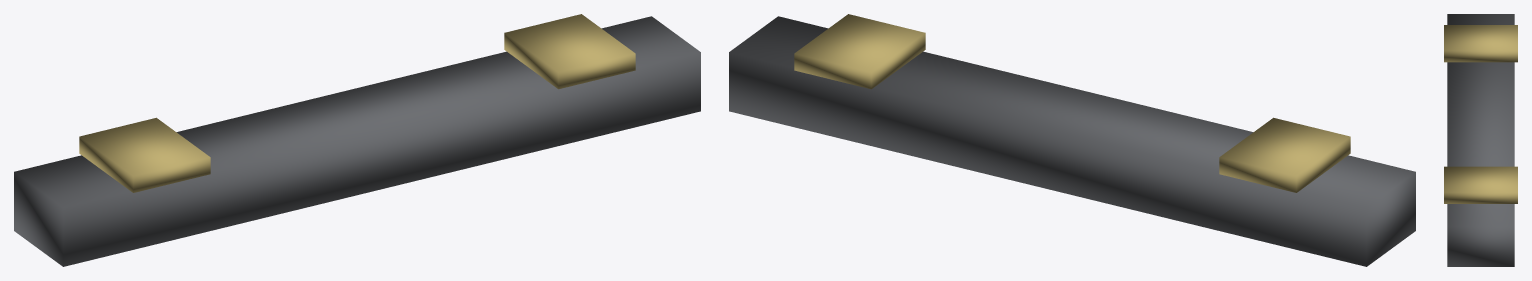
File: wheel_stop_13.glb
The picture shows the model from 3 angles, left to right: view 1: azimuth 30°, elevation 25°; view 2: azimuth 150°, elevation 25°; view 3: azimuth 270°, elevation 25°; orthographic projection. The views are drawn at different scales.
Visible parts, largest first — view 1: world; view 2: world; view 3: world.
Boxes of the visible parts, x1,y1,x2,y2 form: world: [14, 14, 700, 266]; world: [729, 14, 1415, 266]; world: [1444, 14, 1517, 266].
Size of the model in its own units: 1.45 by 0.1656 by 0.2134.
